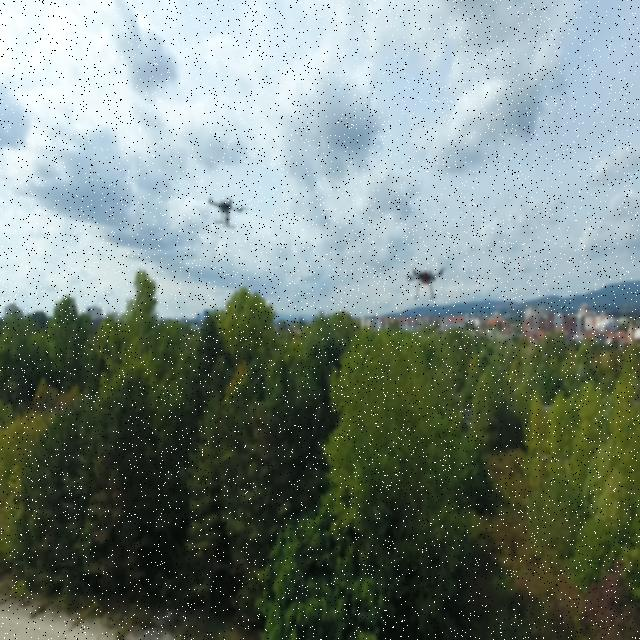UAV: (398, 260, 450, 302), (201, 192, 249, 234)
